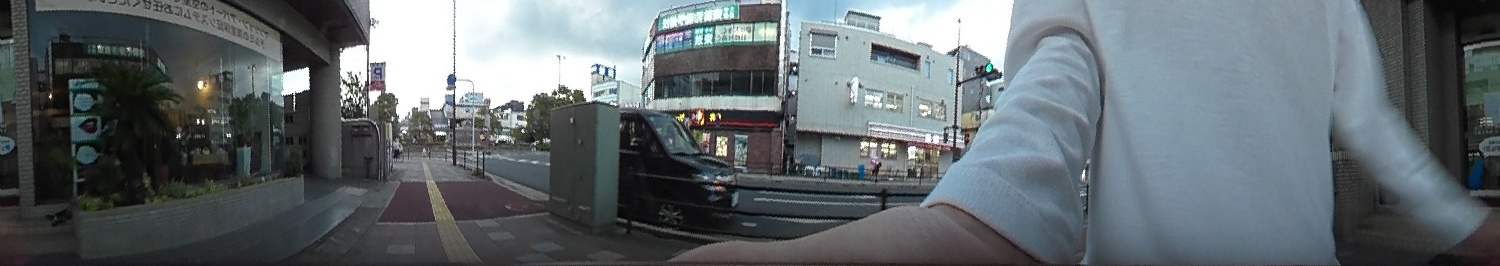difficult_person: (391, 133, 404, 164)
